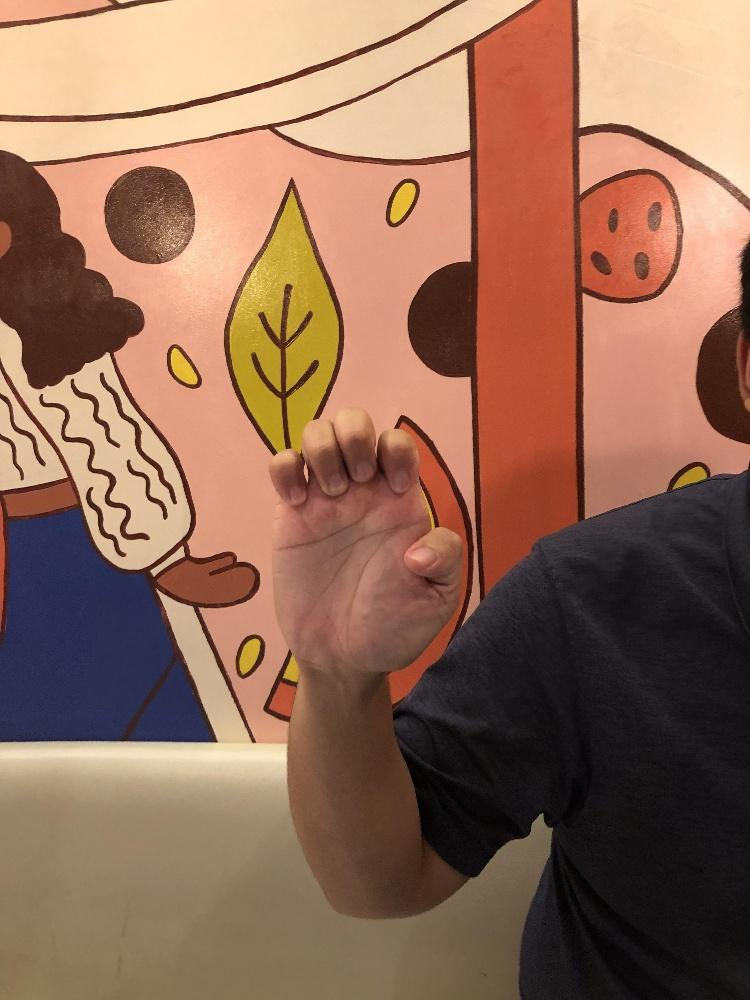e: (265, 405, 467, 678)
